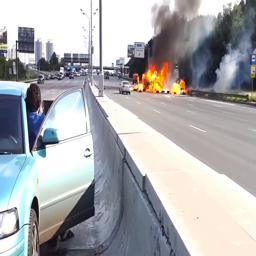fire: (133, 62, 188, 95)
